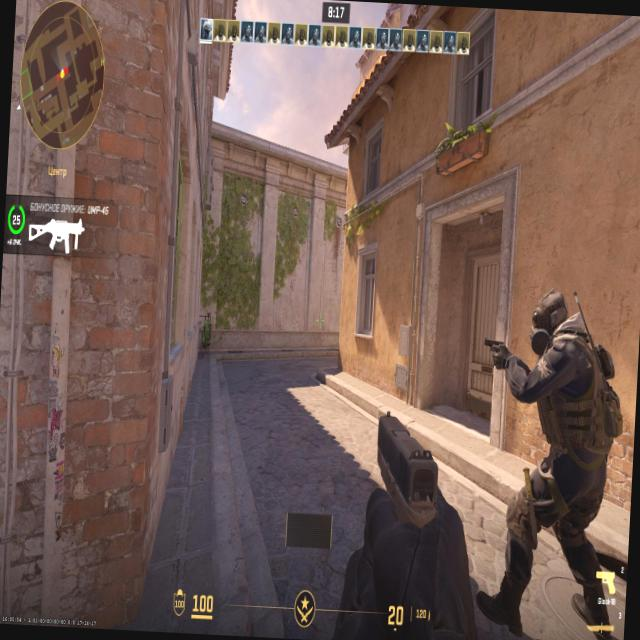CT: (522, 294, 604, 560)
CT_heat: (536, 302, 562, 340)
